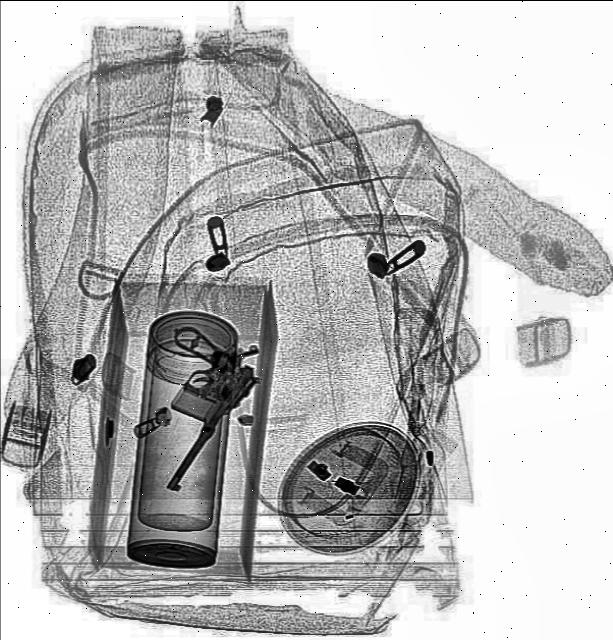Gun: (92, 301, 274, 493)
